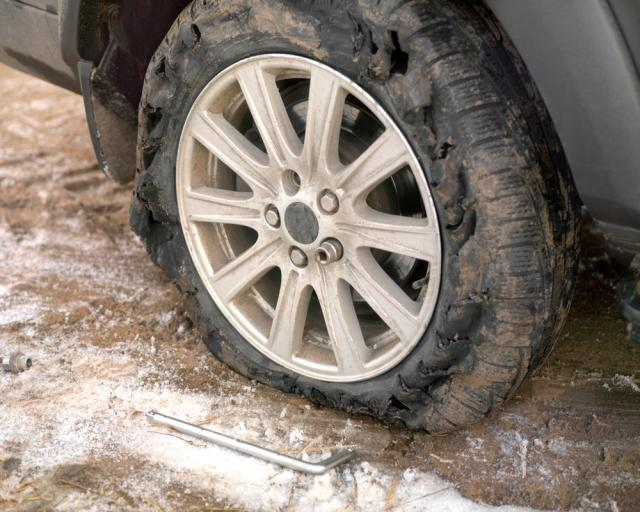tire flat: (129, 0, 578, 434)
